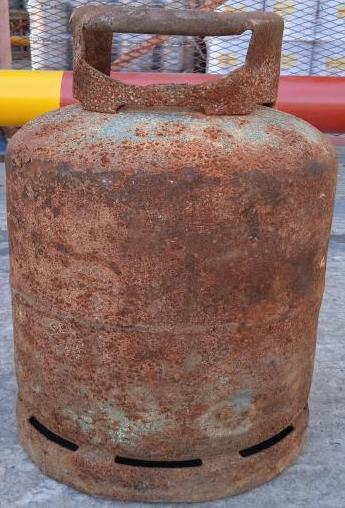cylinder: (1, 1, 345, 508)
